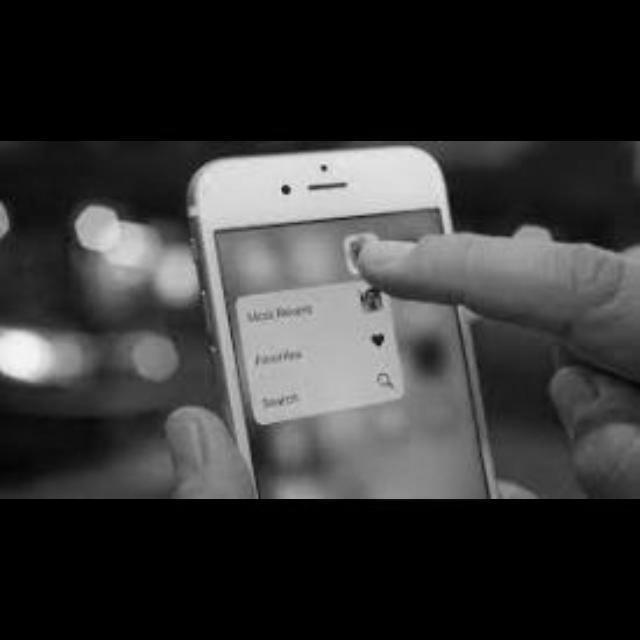fake: (174, 142, 576, 499)
